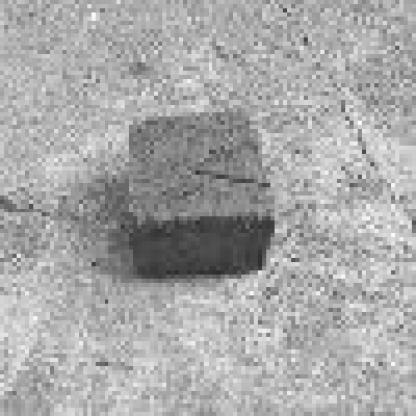brick: (125, 110, 277, 274)
